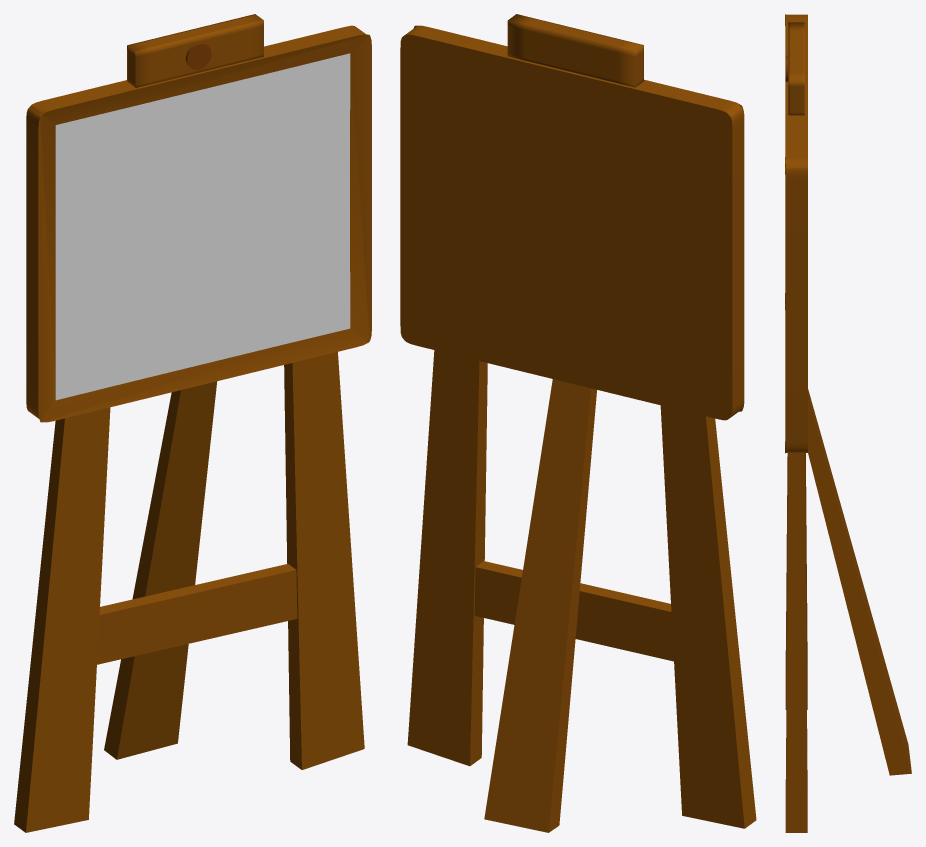
File: Painting Canvas.fbx
3 views of the same model, side by side, from view 1: azimuth 30°, elevation 25°; view 2: azimuth 150°, elevation 25°; view 3: azimuth 270°, elevation 25° (orthographic). The views are drawn at different scales.
Parts seen in each view (by area): view 1: Cube, Cube.002, Cube.003, Cube.005, Cube.004, Cube.001; view 2: Cube, Cube.005, Cube.002, Cube.003, Cube.004, Cube.001; view 3: Cube, Cube.005, Cube.003, Cube.001, Cube.002.
Boxes of the visible parts, left/top/right/bottom form: Cube: left=26, top=25, right=371, bottom=422; Cube.002: left=14, top=407, right=110, bottom=832; Cube.003: left=284, top=352, right=364, bottom=769; Cube.005: left=104, top=381, right=217, bottom=759; Cube.004: left=97, top=564, right=297, bottom=664; Cube.001: left=127, top=14, right=263, bottom=87; Cube: left=400, top=25, right=744, bottom=420; Cube.005: left=484, top=379, right=596, bottom=832; Cube.002: left=660, top=405, right=756, bottom=828; Cube.003: left=407, top=350, right=487, bottom=766; Cube.004: left=474, top=561, right=673, bottom=661; Cube.001: left=507, top=14, right=643, bottom=87; Cube: left=785, top=14, right=807, bottom=453; Cube.005: left=808, top=389, right=911, bottom=775; Cube.003: left=785, top=453, right=807, bottom=832; Cube.001: left=788, top=22, right=804, bottom=115; Cube.002: left=785, top=453, right=807, bottom=709.
Size of the model in its own units: 125 by 261 by 42.18.
